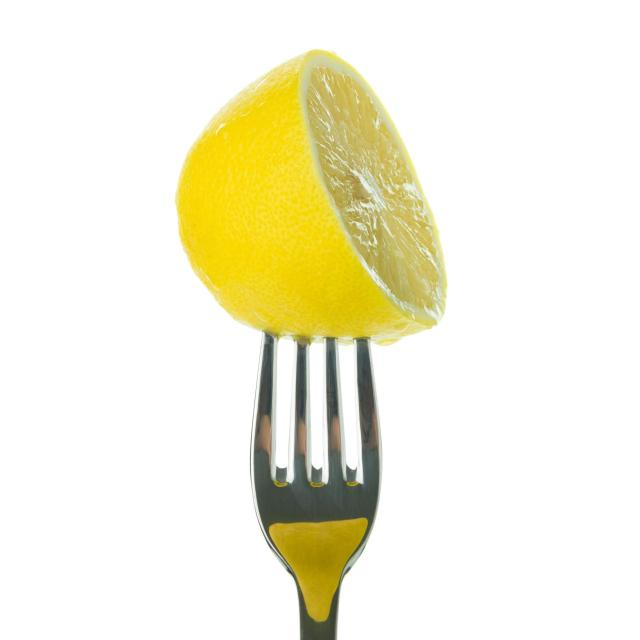lemon: (170, 44, 453, 346)
